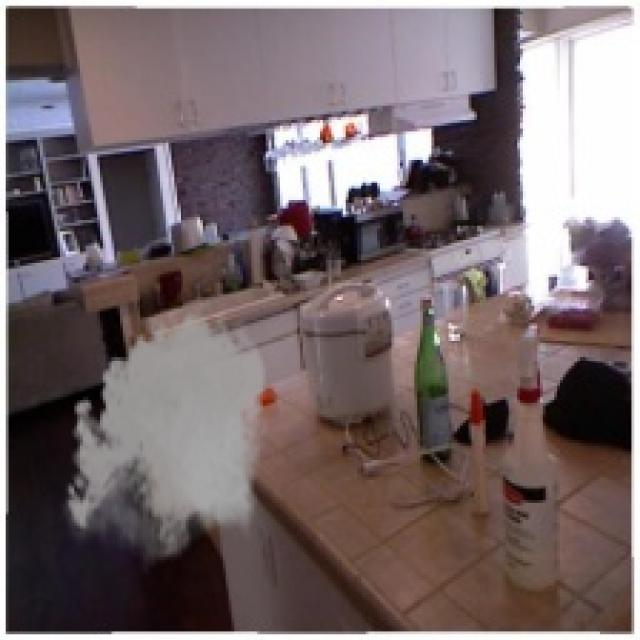smoke: (60, 300, 274, 574)
